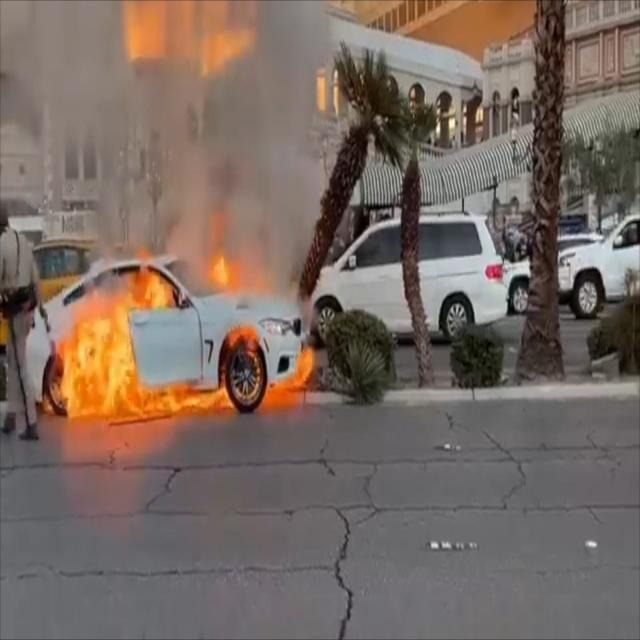fire: (44, 203, 310, 420)
